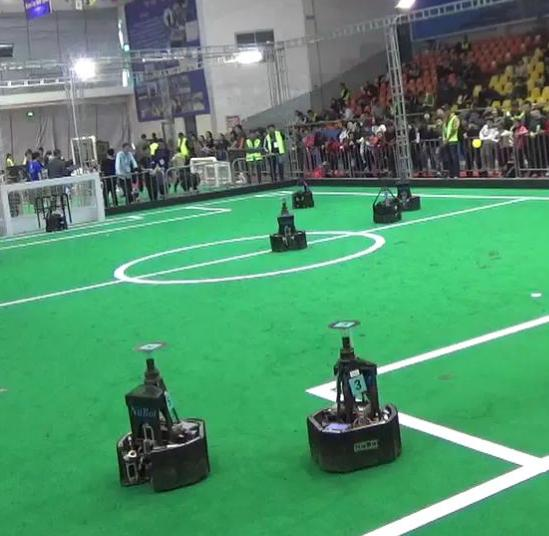robot: (110, 334, 214, 495), (304, 315, 403, 477)
